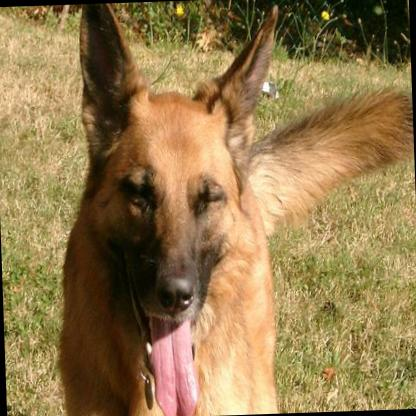German_shepherd: (44, 0, 416, 416)
